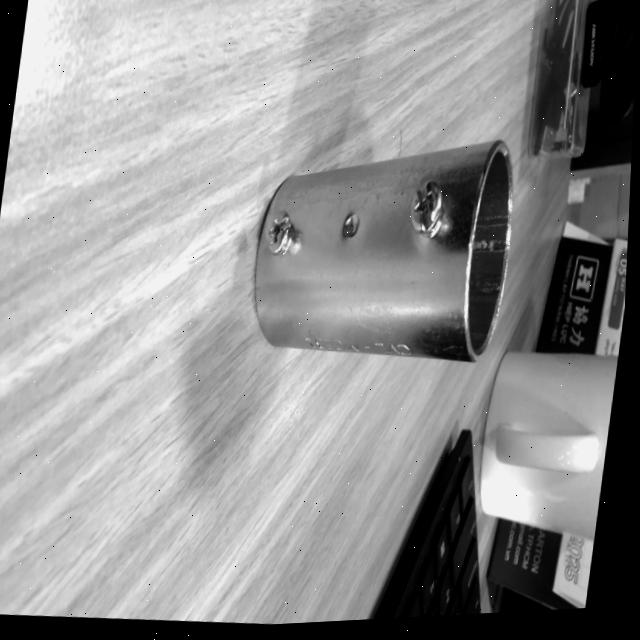Co_Lon: (249, 124, 515, 363)
